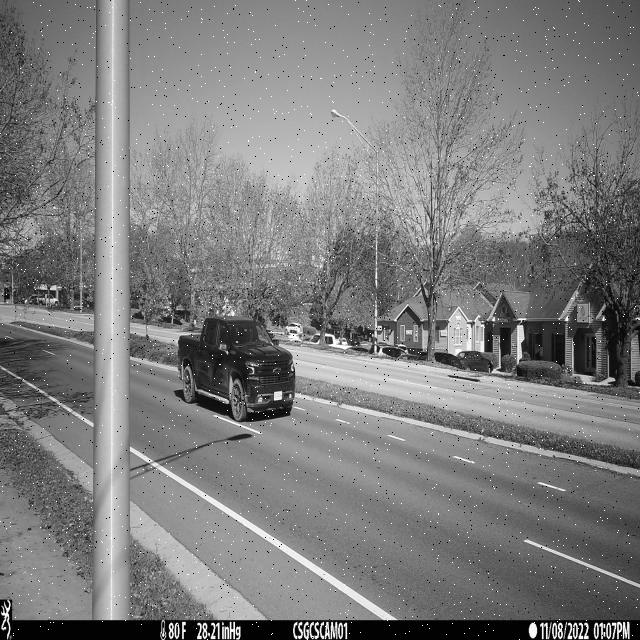Pickup: (177, 316, 295, 422)
